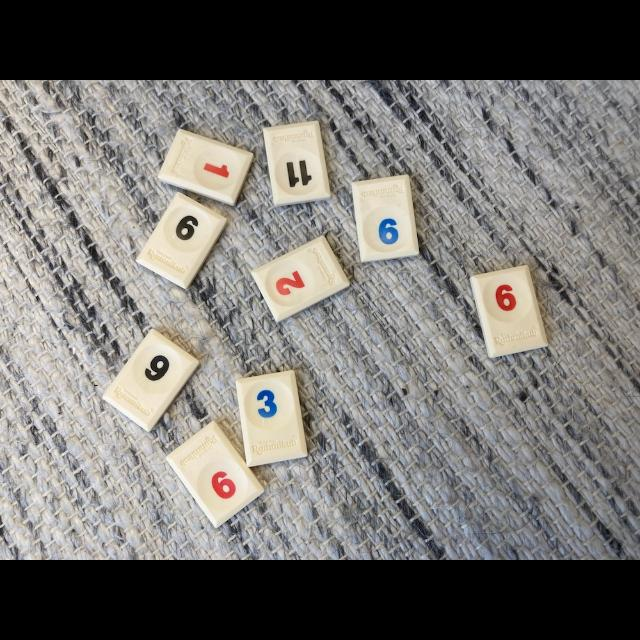black_11: (264, 122, 330, 206)
black_6: (136, 192, 226, 289)
black_9: (102, 329, 199, 431)
blue_3: (237, 370, 307, 466)
blue_9: (352, 174, 422, 264)
red_1: (158, 129, 254, 205)
red_2: (251, 236, 350, 321)
red_6: (471, 265, 548, 358)
red_9: (166, 421, 264, 528)
